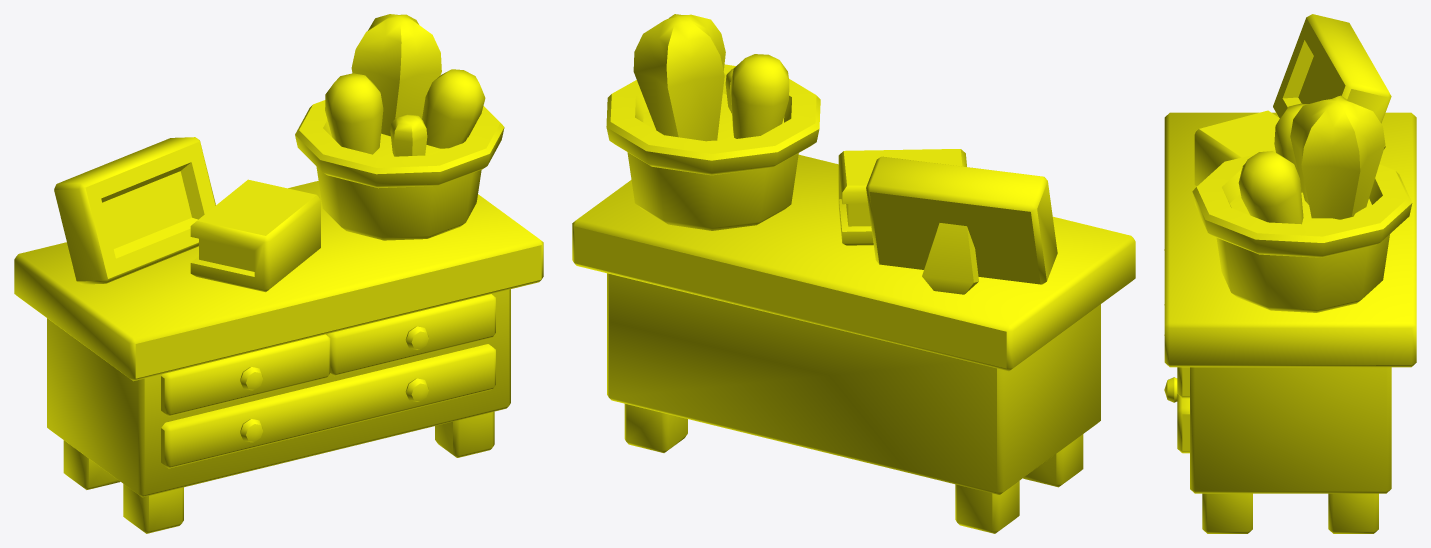
File: kaykit-cabinet-medium-decorated.glb
The picture shows the model from 3 angles, left to right: view 1: azimuth 30°, elevation 25°; view 2: azimuth 150°, elevation 25°; view 3: azimuth 270°, elevation 25°; orthographic projection. The views are drawn at different scales.
Visible parts, largest first — view 1: cabinet_medium_decorated; view 2: cabinet_medium_decorated; view 3: cabinet_medium_decorated.
Boxes of the visible parts, bbox=[...] form: cabinet_medium_decorated: bbox=[14, 14, 543, 533]; cabinet_medium_decorated: bbox=[572, 14, 1135, 533]; cabinet_medium_decorated: bbox=[1164, 14, 1416, 533].
Bounding box in the file's own units: 2.04 × 1.83 × 1.
